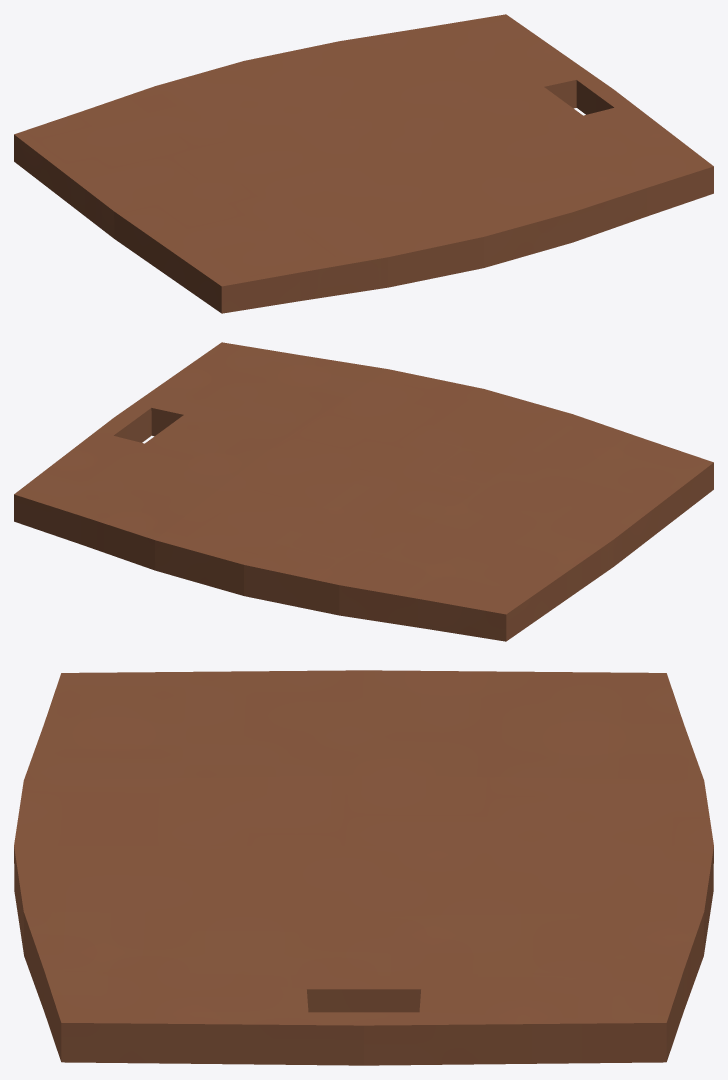
File: Cutting_Board.fbx
The picture shows the model from 3 angles, top to bottom: view 1: azimuth 30°, elevation 25°; view 2: azimuth 150°, elevation 25°; view 3: azimuth 270°, elevation 25°; orthographic projection. The views are drawn at different scales.
Parts seen in each view (by area): view 1: Cutting_Board; view 2: Cutting_Board; view 3: Cutting_Board.
Boxes of the visible parts, left/top/right/bottom form: Cutting_Board: left=14, top=14, right=713, bottom=313; Cutting_Board: left=14, top=342, right=713, bottom=641; Cutting_Board: left=14, top=670, right=713, bottom=1065.
Size of the model in its own units: 0.495 by 0.0325 by 0.4122.
